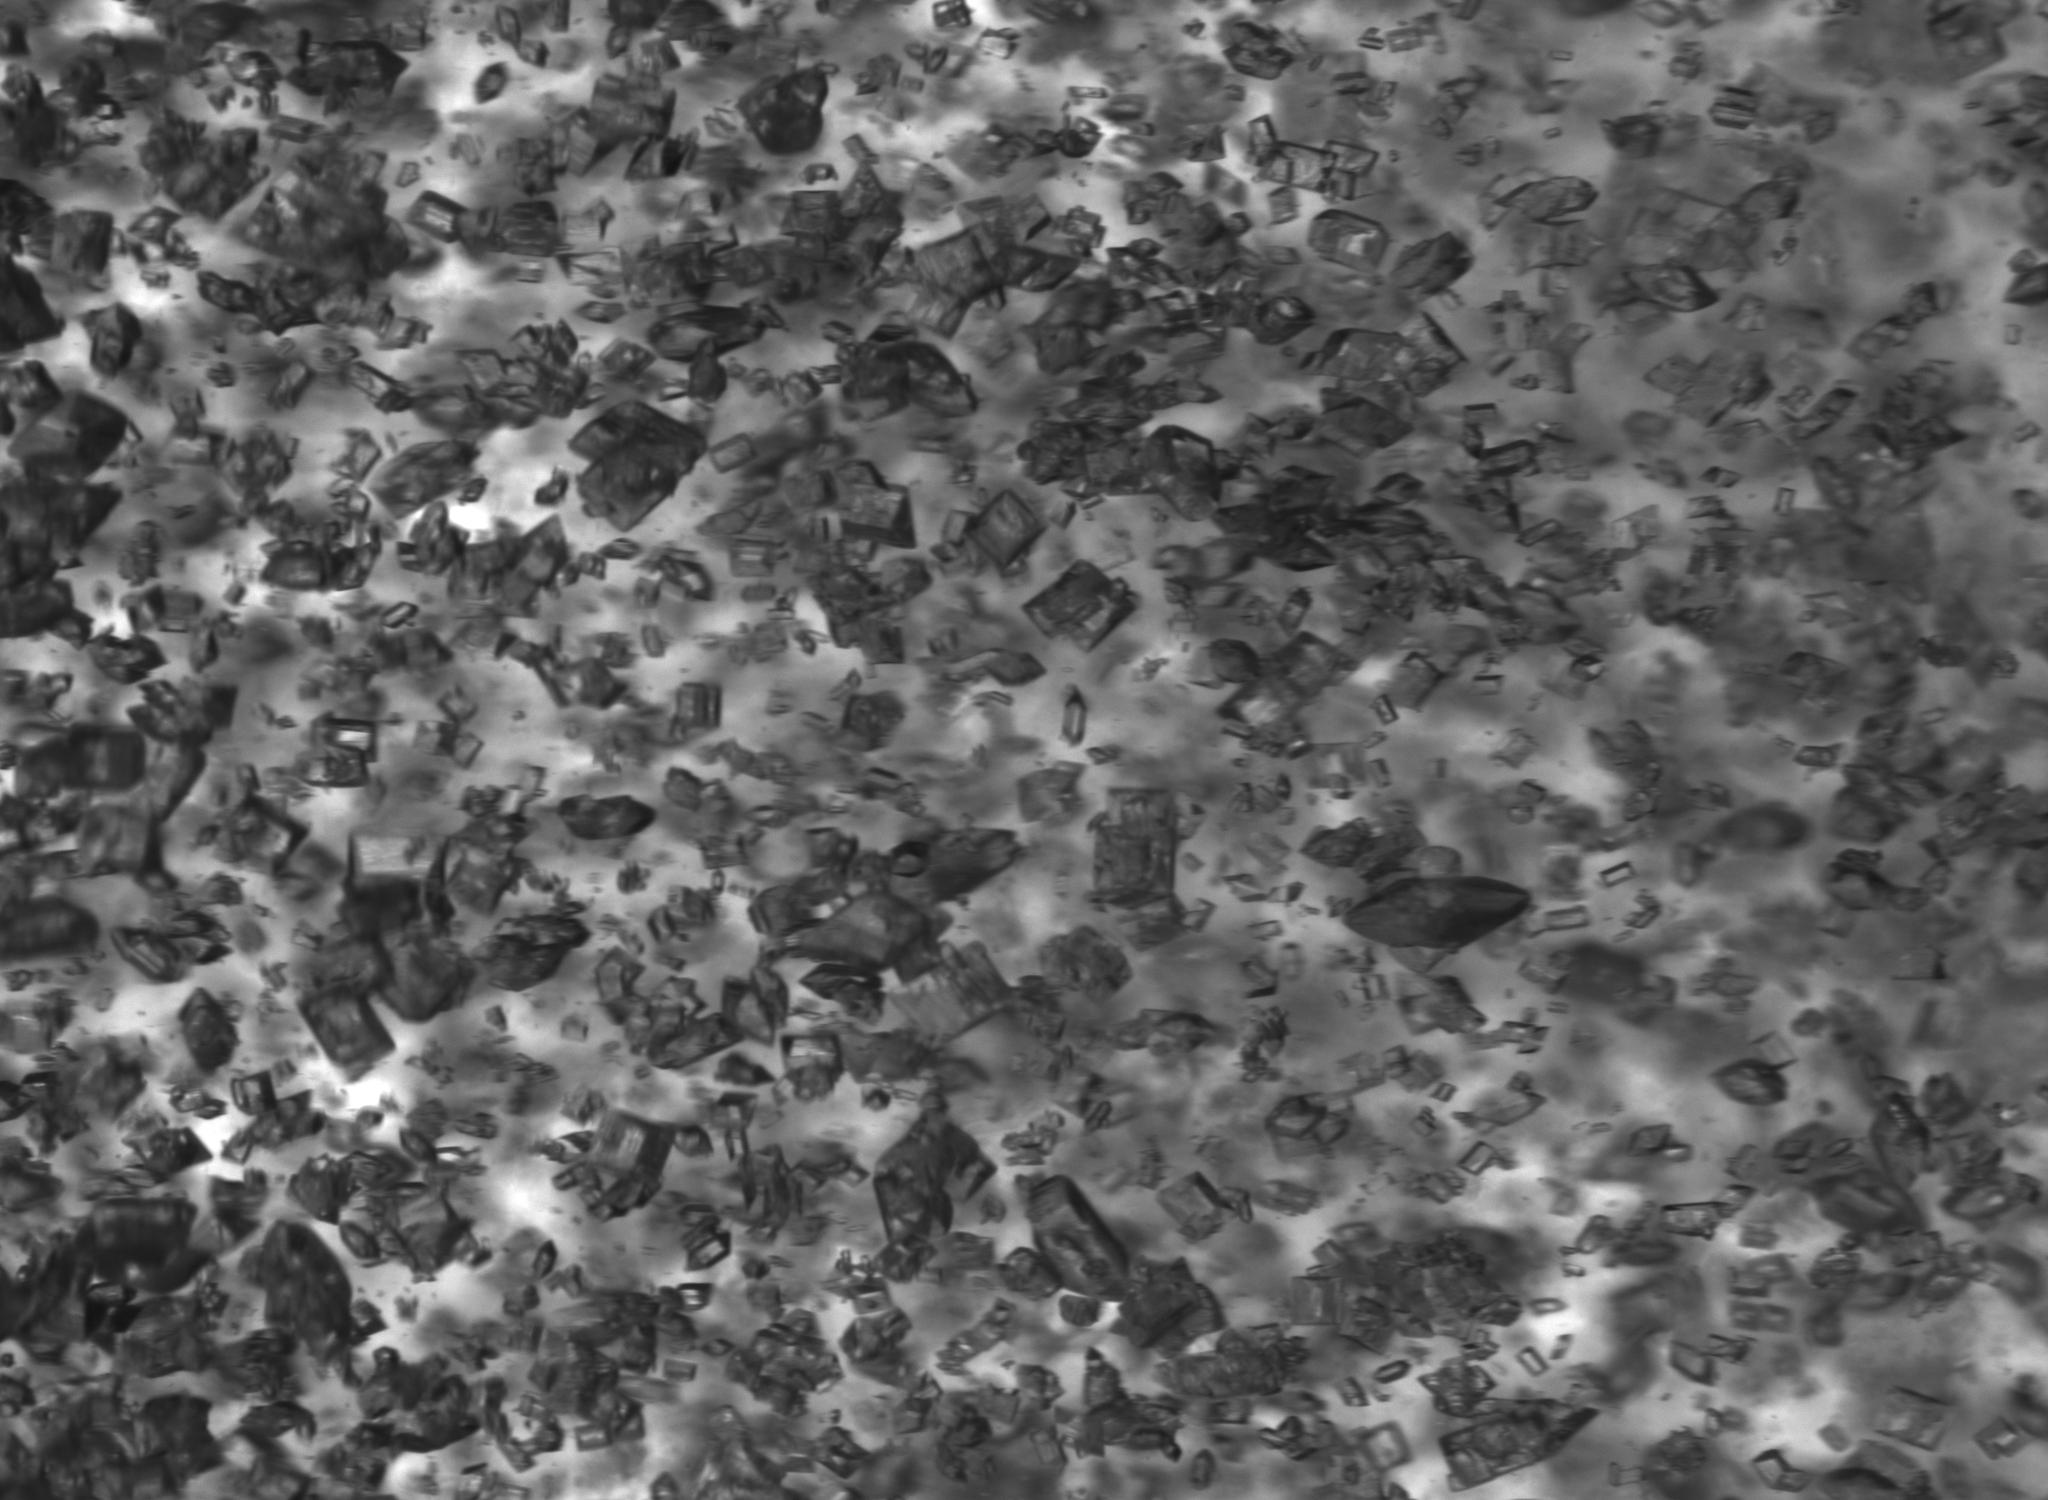crystal: (895, 196, 1105, 339), (1018, 372, 1213, 499), (1418, 1363, 1598, 1489), (239, 150, 410, 278), (37, 1392, 223, 1500), (595, 946, 749, 1072), (569, 399, 706, 530), (870, 1106, 999, 1242), (135, 105, 270, 224), (1216, 630, 1361, 741), (431, 770, 542, 915), (240, 1222, 359, 1354), (1367, 1233, 1517, 1336), (886, 940, 1018, 1056), (1344, 875, 1531, 953), (73, 1196, 215, 1295), (447, 511, 571, 620), (838, 324, 975, 418), (1218, 471, 1345, 571), (358, 1347, 479, 1452), (1102, 1257, 1226, 1358), (773, 888, 932, 966), (528, 1325, 641, 1435), (364, 1182, 493, 1277), (1153, 1322, 1305, 1398), (727, 1311, 841, 1413), (5, 387, 129, 480), (496, 103, 626, 192), (1089, 787, 1181, 913), (1075, 1349, 1180, 1459), (1035, 1176, 1127, 1298), (485, 321, 588, 426), (375, 915, 472, 1023), (1022, 560, 1135, 651), (935, 488, 1048, 577), (1129, 426, 1235, 520), (1827, 764, 1948, 845), (496, 635, 626, 709), (297, 978, 393, 1078), (1644, 350, 1771, 425), (369, 439, 485, 520), (1301, 813, 1436, 881), (814, 562, 905, 663), (574, 1104, 681, 1190), (204, 794, 310, 880), (1024, 280, 1119, 375), (474, 915, 593, 989), (111, 1295, 215, 1379), (1808, 1164, 1926, 1236), (738, 67, 828, 156), (1388, 307, 1471, 401), (1040, 926, 1132, 1007), (1305, 396, 1417, 463), (922, 829, 1022, 902), (283, 41, 410, 99), (747, 872, 855, 938), (73, 805, 167, 880), (646, 305, 766, 363), (216, 428, 296, 512), (738, 1142, 805, 1239), (1868, 1382, 1957, 1454), (1867, 1094, 1932, 1191), (626, 242, 716, 312), (396, 499, 472, 579), (496, 1389, 564, 1476), (584, 75, 677, 138), (1294, 328, 1404, 382), (1107, 1008, 1223, 1059), (1433, 555, 1520, 622), (938, 1301, 1018, 1374), (838, 479, 919, 550), (1304, 207, 1387, 275), (1396, 972, 1487, 1034), (795, 962, 886, 1024), (1258, 1414, 1358, 1470), (558, 1290, 658, 1346), (62, 724, 143, 792), (1390, 232, 1472, 299), (1110, 891, 1196, 954), (822, 690, 906, 754), (771, 1036, 843, 1109), (1255, 137, 1340, 197), (122, 1125, 215, 1180), (719, 966, 787, 1040), (80, 302, 145, 380), (1482, 290, 1555, 358), (49, 208, 114, 285), (836, 1304, 914, 1368), (1924, 1129, 2003, 1191), (172, 996, 237, 1071), (1491, 177, 1598, 221), (1625, 264, 1720, 313), (1259, 1094, 1352, 1145), (399, 186, 475, 247), (1220, 21, 1296, 81), (843, 1029, 925, 1085), (261, 539, 348, 592), (288, 1153, 353, 1223), (83, 633, 167, 687), (558, 795, 655, 841), (1380, 651, 1450, 714), (1517, 218, 1593, 275), (938, 647, 1045, 687), (110, 924, 181, 983), (1536, 320, 1593, 393), (364, 628, 455, 674), (353, 832, 437, 881), (1018, 762, 1084, 824), (491, 199, 560, 259), (553, 243, 641, 290), (1162, 1176, 1232, 1233), (343, 359, 415, 415), (1332, 539, 1401, 597), (1145, 324, 1229, 371), (1000, 1109, 1067, 1166), (1377, 1043, 1452, 1094), (1825, 862, 1902, 911), (1792, 387, 1859, 442), (781, 189, 843, 248), (1711, 1058, 1787, 1106), (991, 1247, 1062, 1298), (774, 468, 841, 520), (830, 1252, 887, 1312), (811, 1425, 875, 1479), (1302, 741, 1369, 792), (1970, 1414, 2031, 1468), (863, 1238, 933, 1284), (1248, 296, 1313, 345), (1779, 652, 1851, 697), (1658, 1199, 1736, 1239), (1355, 1420, 1410, 1475), (1735, 178, 1800, 224), (259, 356, 316, 409), (557, 196, 614, 248), (620, 137, 692, 178), (1608, 501, 1663, 554), (1728, 1255, 1794, 1300), (1752, 1448, 1813, 1495), (329, 428, 382, 482), (154, 428, 223, 469), (197, 269, 256, 317), (1291, 1276, 1345, 1327), (1474, 1018, 1549, 1055), (660, 554, 717, 601), (1468, 1091, 1546, 1126), (302, 751, 370, 791), (1515, 951, 1569, 1001), (1204, 639, 1261, 686), (711, 247, 774, 288), (1250, 1180, 1321, 1217), (671, 682, 722, 733), (2003, 250, 2048, 307), (1487, 727, 1541, 773), (1229, 775, 1291, 814), (661, 767, 712, 814), (1708, 84, 1760, 130), (598, 340, 652, 385), (1474, 437, 1534, 477), (1746, 1028, 1802, 1071), (1716, 294, 1773, 336), (1318, 137, 1380, 175), (1886, 1231, 1948, 1269), (231, 1069, 280, 1117), (453, 348, 506, 393), (124, 582, 167, 636), (126, 205, 181, 247), (1366, 471, 1428, 507), (706, 431, 757, 476), (372, 313, 431, 352), (884, 558, 932, 604), (226, 51, 283, 89), (851, 52, 902, 95), (320, 716, 375, 754), (709, 1088, 758, 1131), (698, 830, 752, 869), (1668, 1341, 1712, 1387), (730, 534, 778, 577), (1243, 113, 1278, 170), (216, 1118, 259, 1164), (164, 391, 205, 439), (324, 479, 372, 520), (170, 1083, 226, 1118), (1894, 945, 1946, 981), (684, 1230, 728, 1273), (894, 1390, 937, 1435), (1142, 290, 1196, 324), (157, 910, 216, 942), (81, 1277, 140, 1309), (1024, 1428, 1067, 1471), (1272, 587, 1312, 633), (410, 721, 460, 757), (399, 1126, 440, 1169), (1240, 954, 1280, 999), (434, 686, 479, 725), (262, 115, 316, 146), (781, 371, 827, 407), (1221, 870, 1269, 905), (944, 1416, 992, 1451), (1512, 515, 1566, 546), (644, 902, 679, 948), (542, 1129, 588, 1164), (188, 628, 221, 676), (175, 935, 234, 962), (641, 38, 681, 78), (975, 27, 1019, 62), (666, 1282, 714, 1314), (1266, 185, 1301, 227), (1062, 686, 1086, 748), (890, 840, 929, 878), (1059, 1295, 1100, 1330), (1705, 1333, 1752, 1363), (671, 1125, 714, 1158), (474, 60, 506, 105), (1456, 1141, 1495, 1177), (1178, 897, 1216, 934), (1625, 1125, 1671, 1155), (1596, 859, 1639, 891), (447, 732, 483, 768), (533, 468, 568, 506), (1328, 70, 1377, 97), (1546, 903, 1592, 932), (17, 1072, 59, 1104), (1418, 1172, 1456, 1206), (571, 1422, 611, 1454), (1794, 743, 1843, 768), (1186, 1449, 1218, 1487), (380, 600, 420, 630), (569, 301, 626, 321), (531, 1238, 558, 1280), (593, 536, 641, 560), (932, 0, 972, 29), (496, 5, 522, 49), (723, 1123, 751, 1164), (1986, 1101, 2027, 1128), (1332, 1376, 1369, 1406), (1515, 1346, 1549, 1378), (1685, 496, 1730, 520), (639, 624, 669, 659), (1371, 1358, 1412, 1384), (1387, 25, 1423, 54), (1566, 655, 1606, 681), (1407, 1106, 1437, 1139), (1263, 881, 1307, 903), (1700, 466, 1744, 488), (1366, 757, 1394, 791), (1358, 1172, 1398, 1196), (1358, 973, 1393, 1001), (1245, 919, 1286, 942), (1464, 401, 1499, 426), (660, 1357, 696, 1381), (576, 552, 606, 581), (1771, 1139, 1813, 1160), (1530, 1296, 1568, 1319), (1628, 905, 1663, 929), (1471, 674, 1507, 697), (798, 162, 835, 185), (1264, 245, 1302, 266), (1771, 487, 1798, 514), (1515, 779, 1544, 805), (456, 134, 480, 164), (975, 689, 1014, 706), (1670, 56, 1703, 76), (394, 161, 420, 188), (561, 1013, 587, 1040), (1429, 1082, 1458, 1102), (1705, 1408, 1722, 1440), (1561, 1263, 1588, 1277), (1549, 49, 1574, 62), (407, 329, 421, 342)
